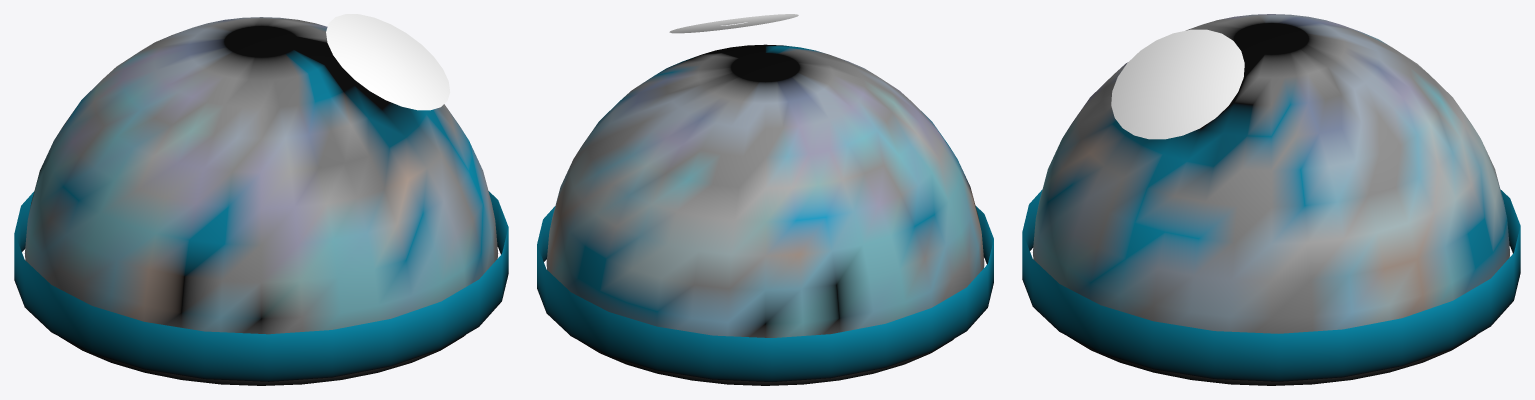
File: sky_village_underside.glb
3 renders of one model, left to right at view 1: azimuth 30°, elevation 25°; view 2: azimuth 150°, elevation 25°; view 3: azimuth 270°, elevation 25°, orthographic. The views are drawn at different scales.
Visible parts, largest first — view 1: SkyMesh; view 2: SkyMesh; view 3: SkyMesh.
Boxes of the visible parts, left/top/right/bottom form: SkyMesh: left=14, top=14, right=508, bottom=385; SkyMesh: left=537, top=14, right=993, bottom=385; SkyMesh: left=1022, top=14, right=1520, bottom=385.
Bounding box in the file's own units: 187843 × 113922 × 187843.
